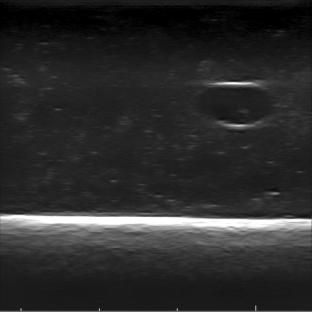vessel: (194, 81, 274, 130)
